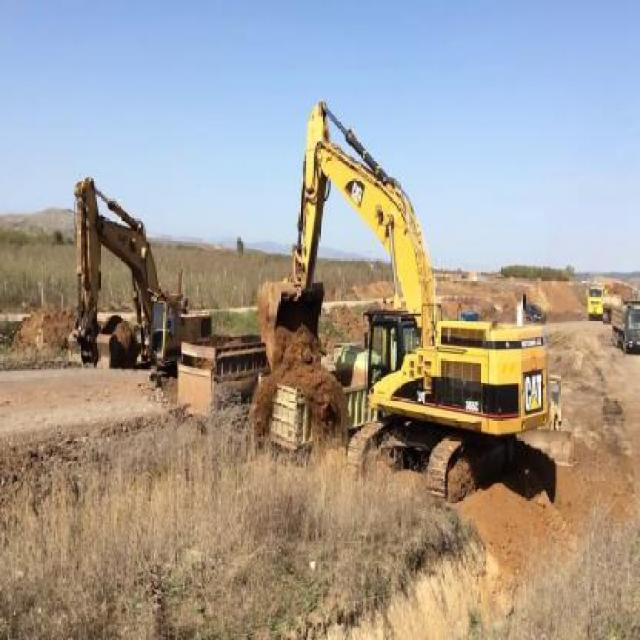Dump Truck: (610, 298, 639, 354)
Excavator: (255, 94, 551, 508), (68, 176, 212, 370)
